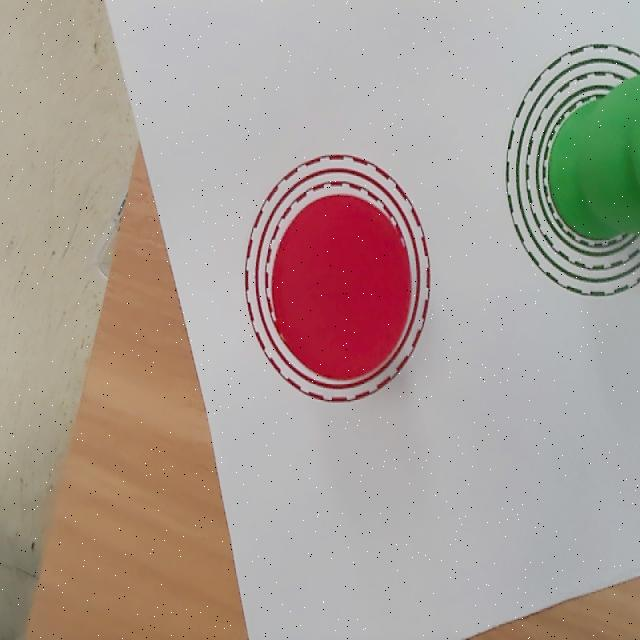r: (273, 195, 411, 380)
